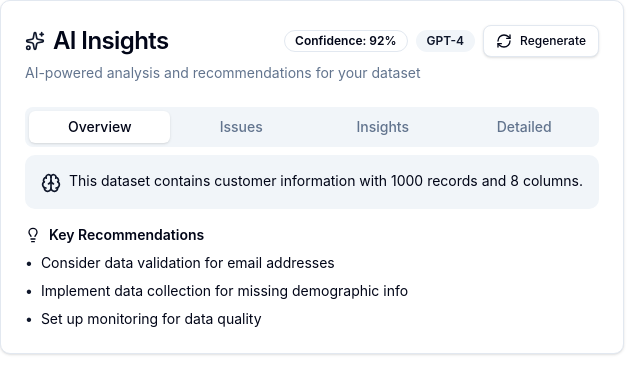
Test: AIInsightsPanel › shows regenerate button and handles regeneration
Expected: the heading "AI Insights" is shown, top-left (53, 29), bottom-right (168, 53)
Click the button "Regenerate".
click(541, 41)  # box top-left (483, 25), bottom-right (599, 57)
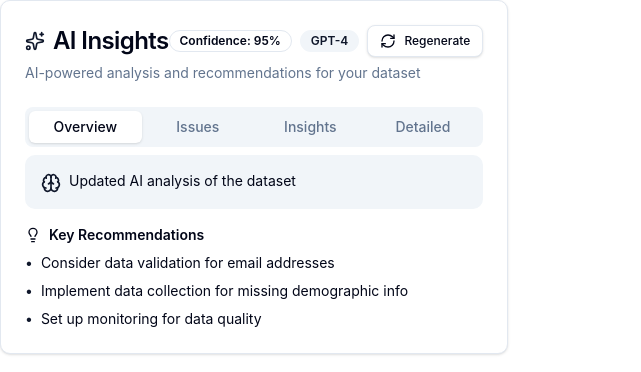
Expected: the text "Updated AI analysis of the dataset" is shown, top-left (69, 171), bottom-right (296, 191)
